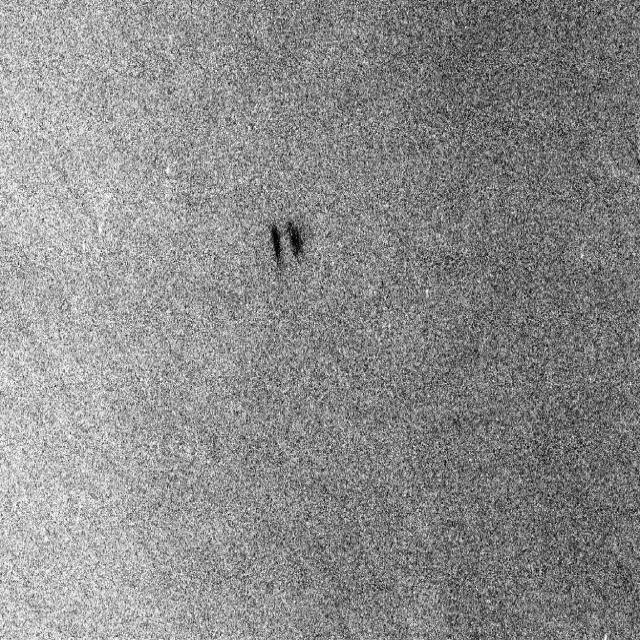oil-spill: (263, 213, 307, 270)
